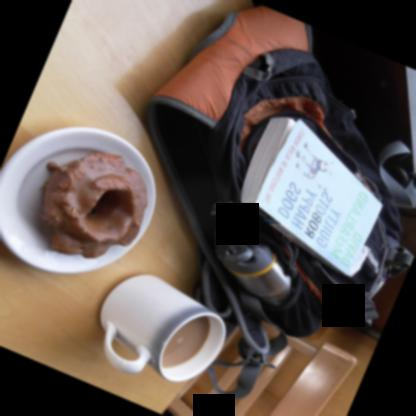backpack: (132, 5, 416, 351)
